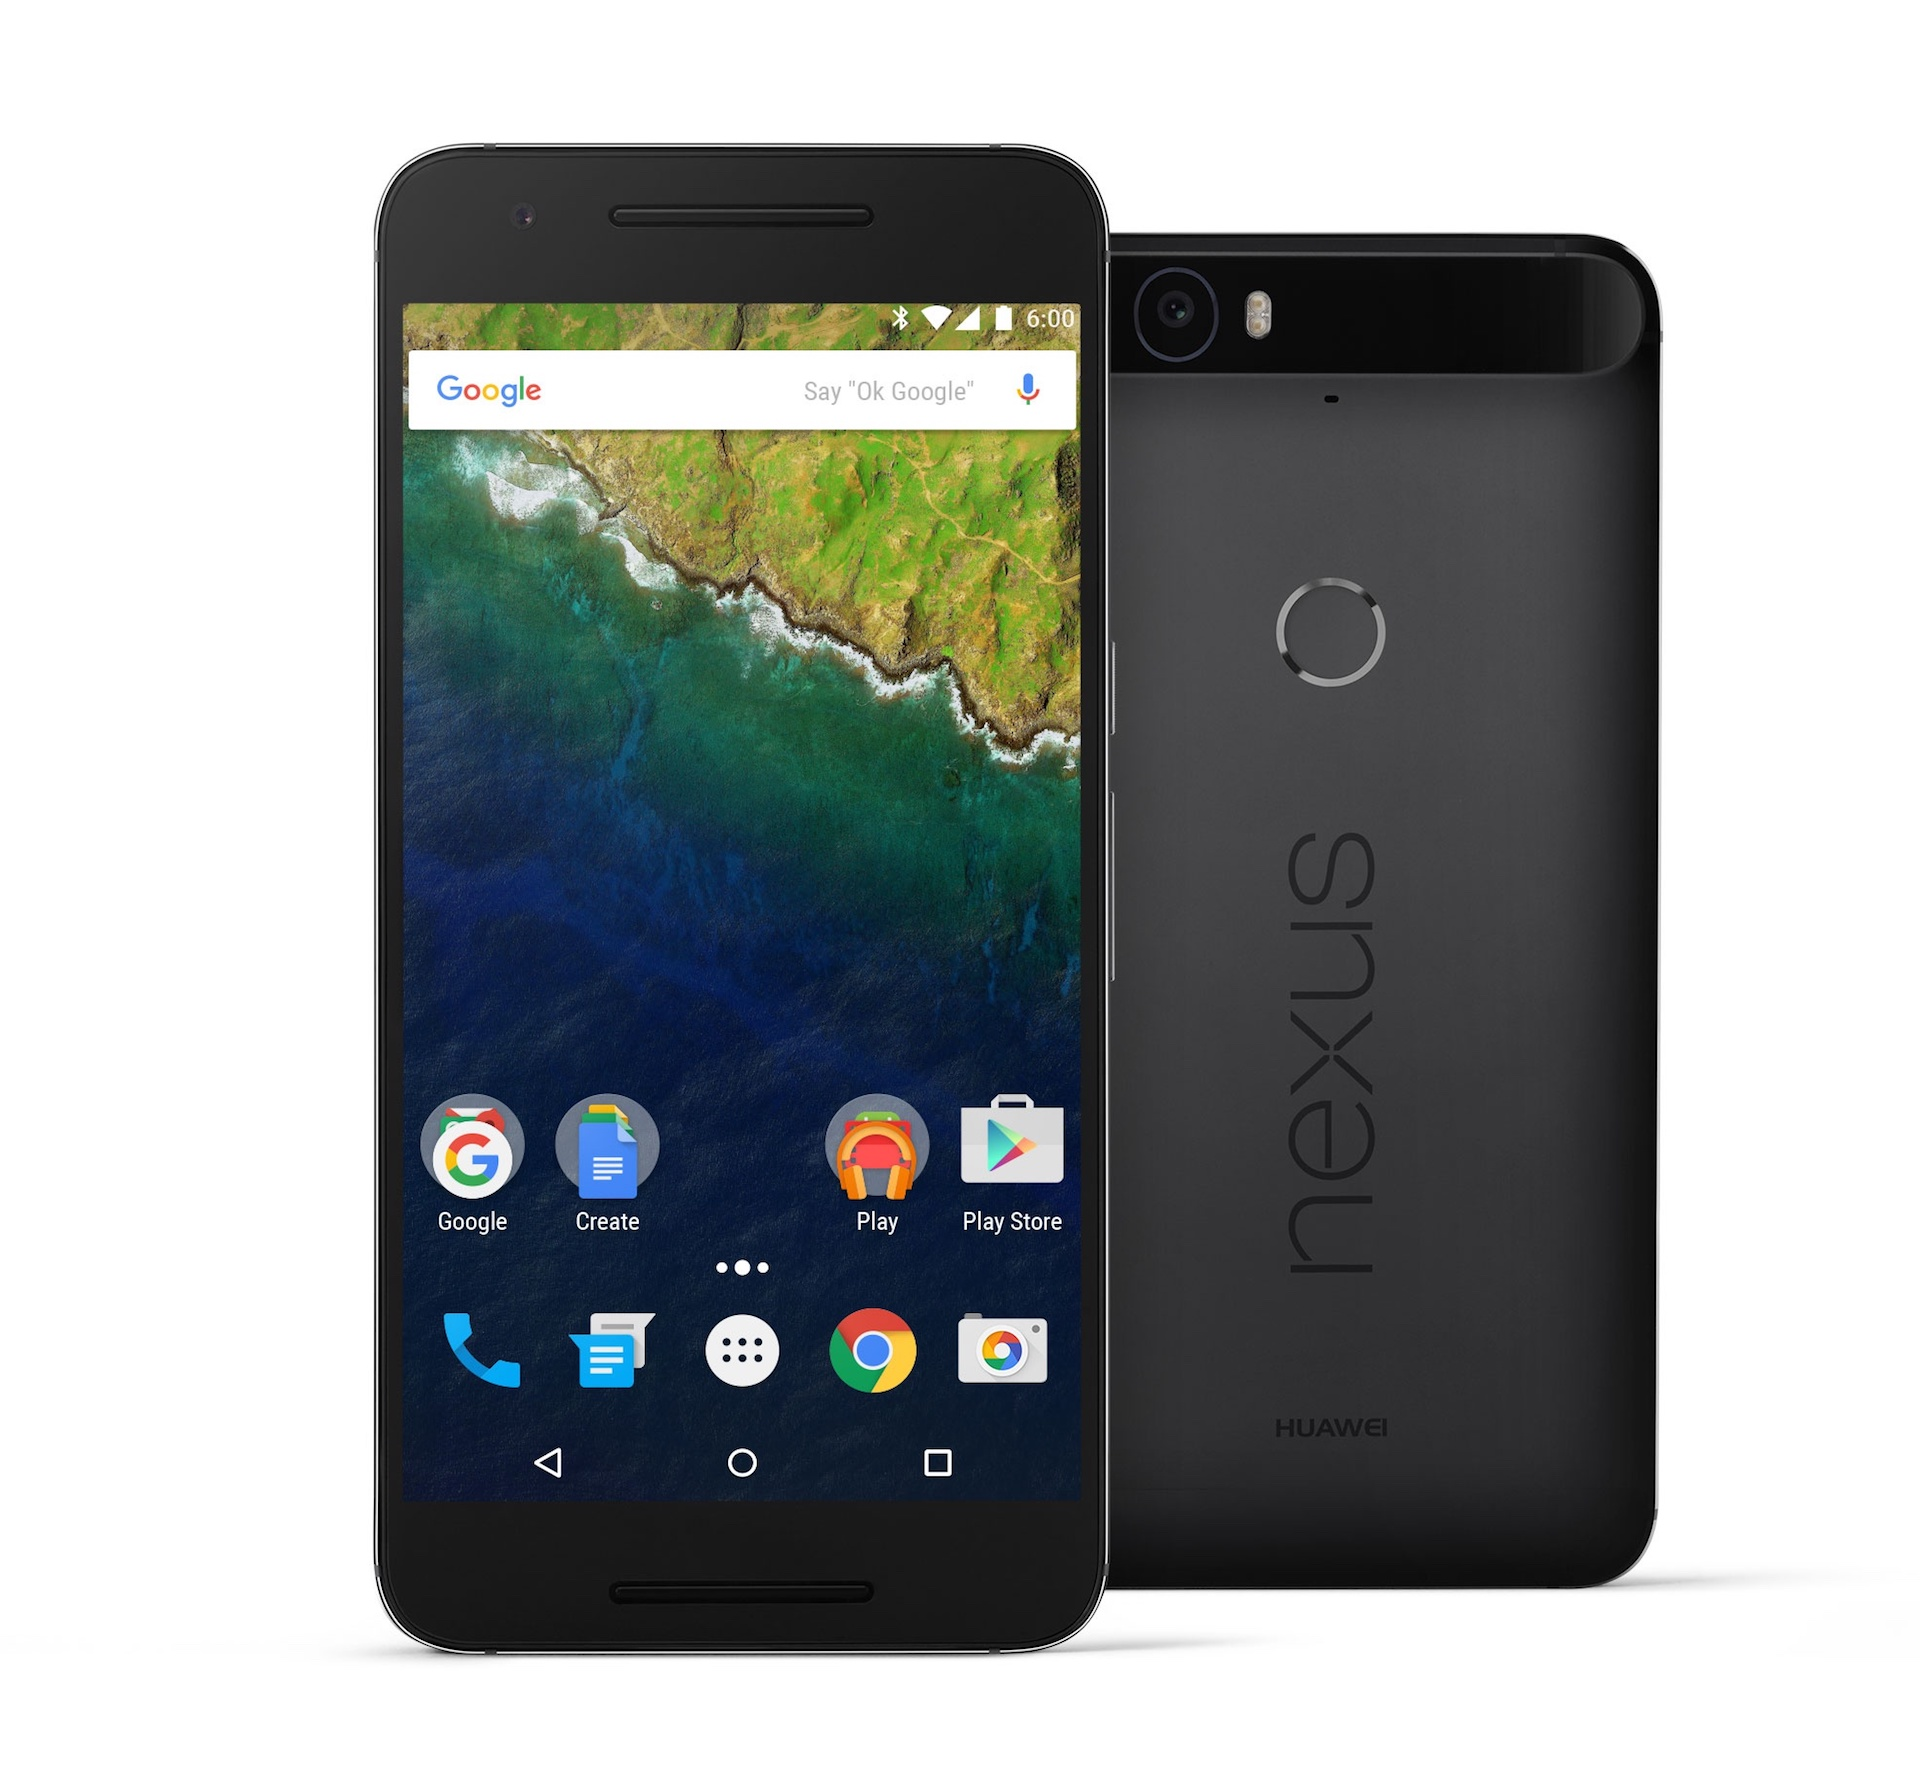smartphone: (371, 137, 1117, 1663), (1106, 227, 1664, 1594)
